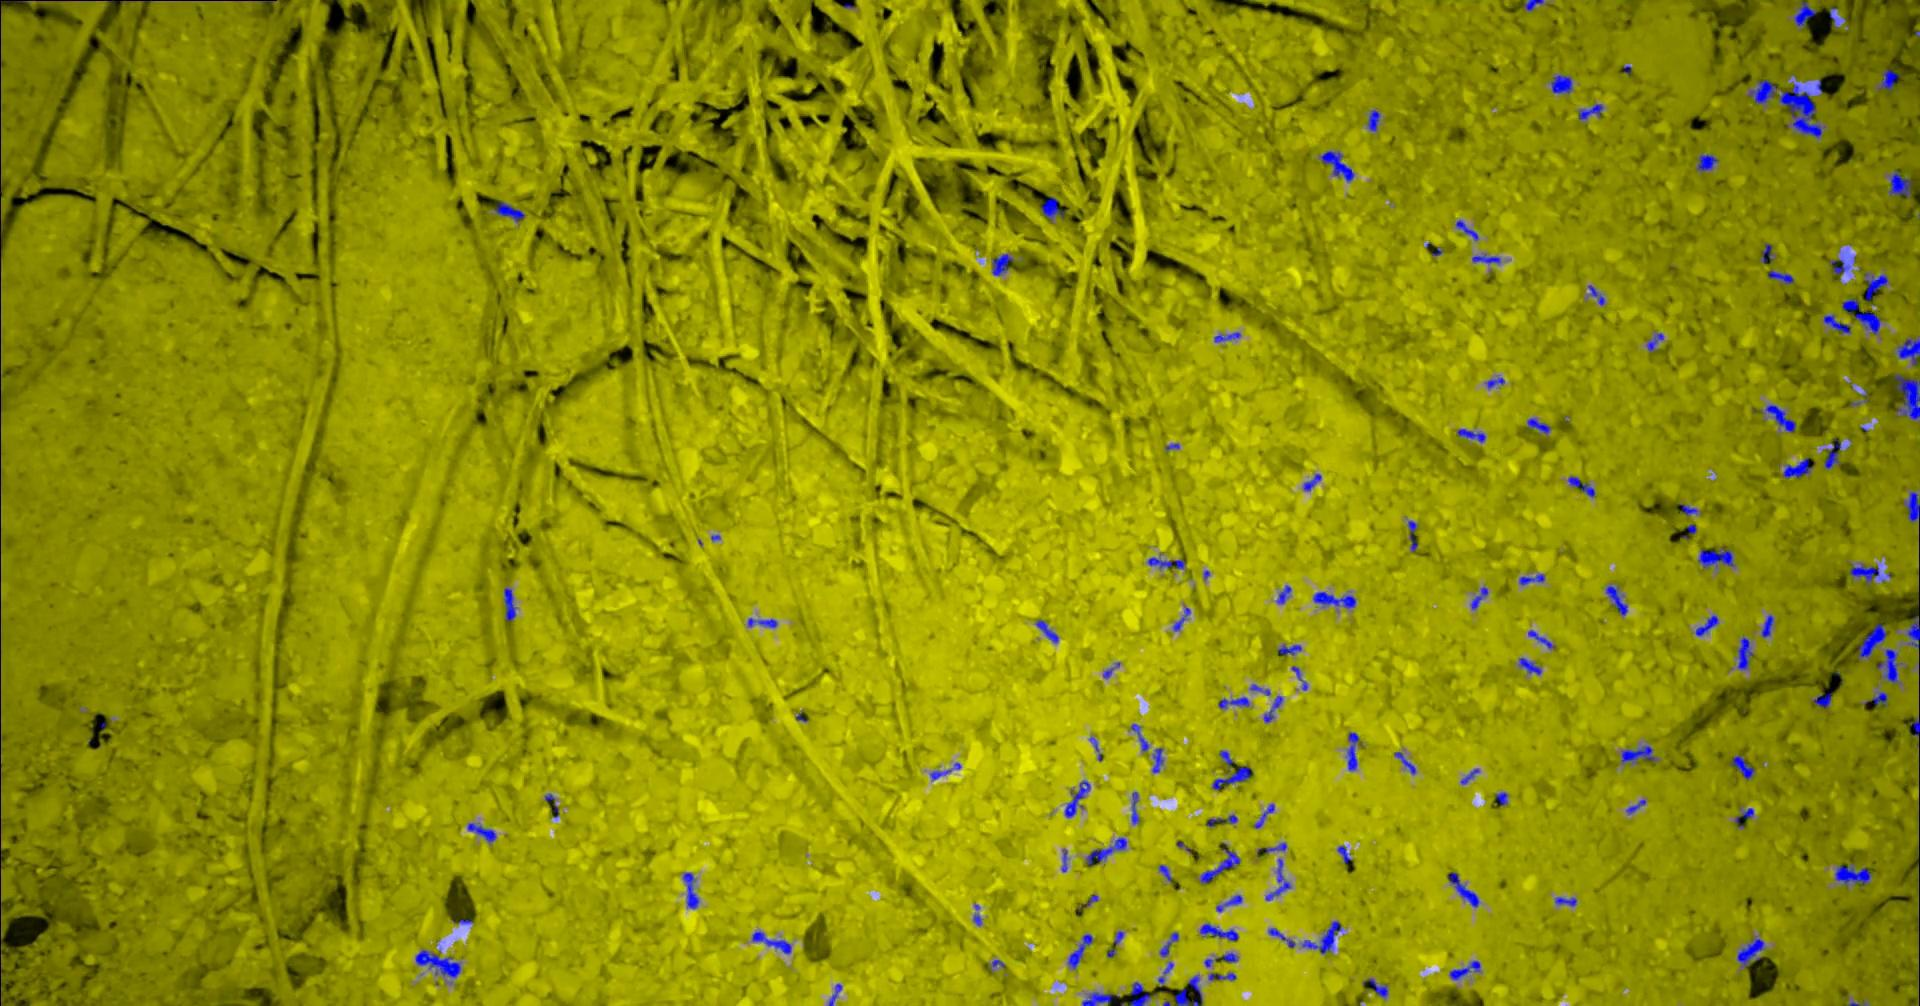ant: (1199, 848, 1239, 883), (1841, 298, 1879, 334), (1302, 920, 1341, 953), (415, 949, 460, 977), (1084, 837, 1126, 865), (1893, 373, 1919, 419), (1265, 857, 1291, 901), (1857, 622, 1886, 661), (1448, 873, 1478, 907), (1760, 404, 1796, 432), (1321, 150, 1352, 180), (1211, 765, 1250, 790), (1064, 780, 1090, 817), (1876, 648, 1901, 683), (750, 931, 791, 953), (1067, 934, 1092, 968), (1175, 974, 1203, 1005), (1736, 937, 1764, 967), (1834, 862, 1870, 884), (1312, 591, 1355, 608), (1697, 547, 1735, 567), (1747, 79, 1777, 103), (1863, 272, 1887, 300), (1605, 584, 1627, 615), (1199, 923, 1238, 940), (1793, 0, 1816, 28), (1888, 169, 1911, 197), (494, 201, 524, 221), (1129, 981, 1154, 1005), (1782, 459, 1813, 478), (1449, 960, 1481, 979), (1897, 337, 1919, 365), (682, 873, 698, 908), (1730, 754, 1754, 779), (1267, 927, 1295, 948), (1040, 196, 1063, 220), (1622, 746, 1655, 762), (1567, 476, 1594, 497), (1849, 564, 1879, 582), (1147, 554, 1185, 568), (467, 822, 495, 841), (1081, 991, 1119, 1005), (992, 253, 1015, 276), (1695, 614, 1718, 636), (1035, 619, 1058, 641), (1737, 635, 1752, 669), (1253, 803, 1274, 828), (1823, 314, 1850, 333), (1528, 629, 1554, 648), (1263, 695, 1283, 721), (1455, 218, 1478, 240), (1823, 438, 1840, 467), (1130, 723, 1148, 749), (1394, 751, 1415, 774), (1159, 932, 1178, 956), (1363, 978, 1387, 997), (1215, 894, 1242, 911), (1878, 69, 1898, 90), (1347, 732, 1359, 770), (1172, 607, 1190, 631), (1517, 657, 1542, 674), (503, 587, 516, 620), (1550, 74, 1572, 93), (1697, 152, 1718, 171), (1905, 492, 1919, 521), (1578, 103, 1603, 119), (1526, 417, 1550, 433), (1907, 615, 1919, 649), (1457, 428, 1484, 442), (1470, 586, 1487, 608), (1217, 696, 1250, 708), (1291, 666, 1307, 690), (1735, 807, 1752, 827), (1768, 271, 1793, 285), (1206, 814, 1237, 826), (1256, 842, 1286, 854), (1646, 332, 1663, 351), (1302, 473, 1321, 490), (543, 793, 557, 817), (1587, 285, 1604, 305), (1407, 520, 1417, 551), (1150, 747, 1163, 772), (747, 617, 777, 627), (1811, 692, 1831, 708), (1909, 716, 1919, 747), (1517, 573, 1544, 584), (1829, 259, 1850, 273), (1470, 253, 1500, 263), (1277, 644, 1302, 655), (828, 983, 841, 1005), (1276, 586, 1291, 603), (1336, 845, 1351, 862), (1759, 243, 1773, 262), (1625, 799, 1644, 813), (1761, 614, 1773, 636), (1218, 749, 1232, 767), (1208, 972, 1236, 981), (1368, 109, 1379, 131), (1131, 791, 1139, 823), (1523, 0, 1543, 11), (1870, 691, 1887, 705), (1214, 332, 1239, 340), (1158, 864, 1171, 882), (930, 768, 951, 779), (1554, 895, 1576, 906), (1217, 951, 1238, 962), (1679, 503, 1697, 514), (1495, 791, 1507, 807), (1486, 377, 1503, 387)
